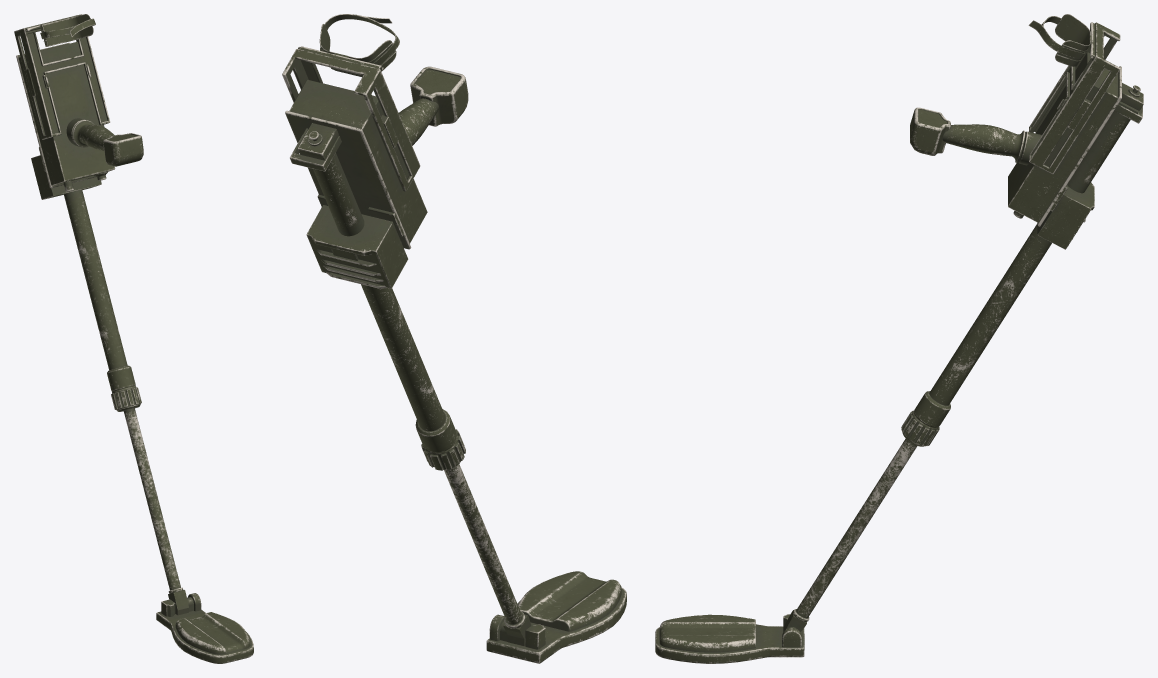
The model's file is jellyfish-model.glb.
The picture shows the model from 3 angles, left to right: view 1: azimuth 30°, elevation 25°; view 2: azimuth 150°, elevation 25°; view 3: azimuth 270°, elevation 25°; orthographic projection. The views are drawn at different scales.
Parts seen in each view (by area): view 1: Prop_MineHound; view 2: Prop_MineHound; view 3: Prop_MineHound.
Boxes of the visible parts, x1=… form: Prop_MineHound: x1=14, y1=14, x2=253, y2=663; Prop_MineHound: x1=282, y1=14, x2=626, y2=663; Prop_MineHound: x1=655, y1=14, x2=1143, y2=663.
Size of the model in its own units: 14.98 by 123 by 87.14.
Materials: 1 (1 with a texture image).
